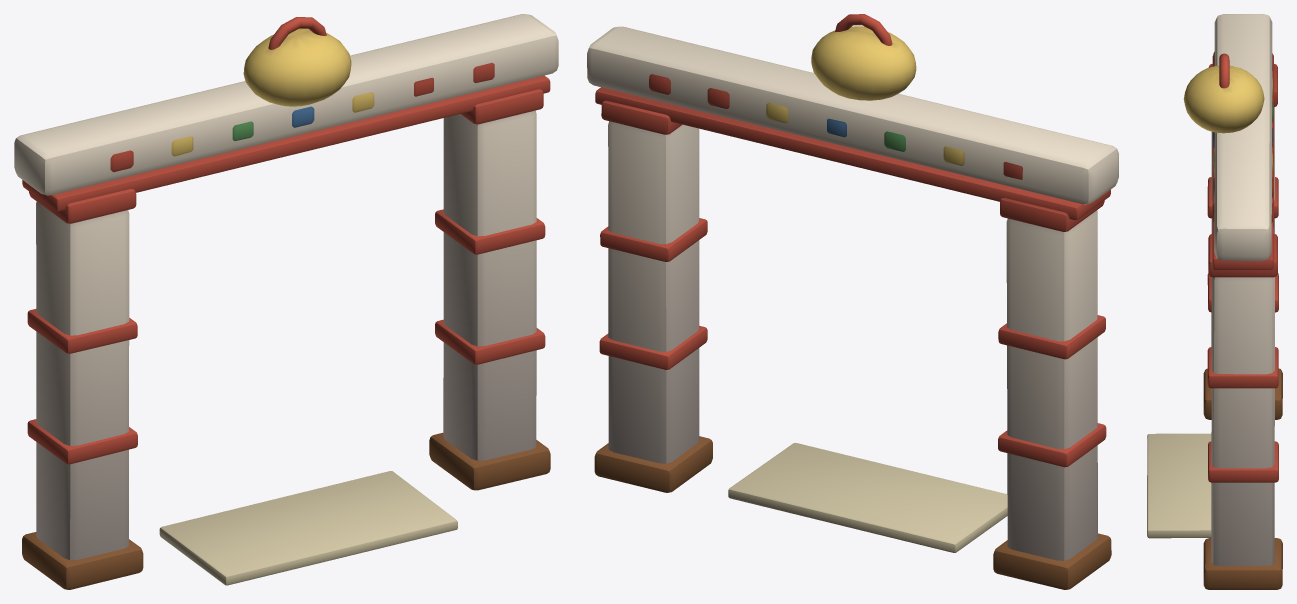
The picture shows the model from 3 angles, left to right: view 1: azimuth 30°, elevation 25°; view 2: azimuth 150°, elevation 25°; view 3: azimuth 270°, elevation 25°; orthographic projection. The views are drawn at different scales.
Visible parts, largest first — view 1: gate_3c3c34a6; view 2: gate_3c3c34a6; view 3: gate_3c3c34a6.
Boxes of the visible parts, left/top/right/bottom form: gate_3c3c34a6: left=14, top=14, right=558, bottom=589; gate_3c3c34a6: left=587, top=14, right=1118, bottom=589; gate_3c3c34a6: left=1147, top=14, right=1282, bottom=589.
Size of the model in its own units: 5.34 by 5 by 1.42.
